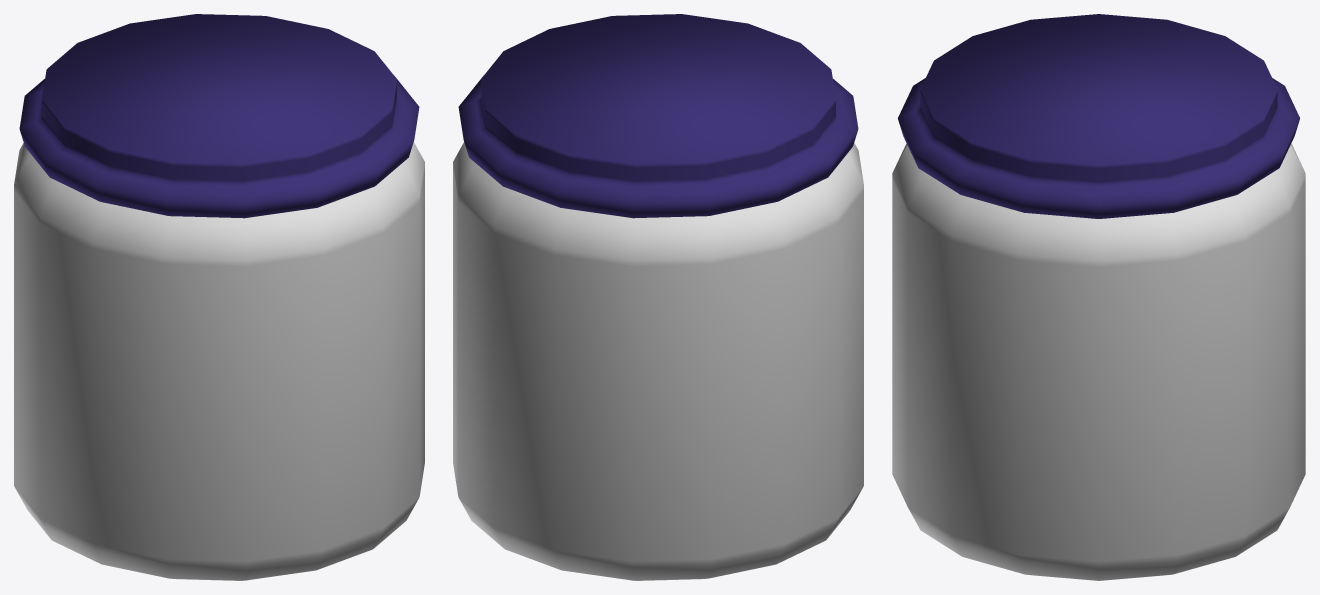
The model's file is SM_Jar.fbx.
The picture shows the model from 3 angles, left to right: view 1: azimuth 30°, elevation 25°; view 2: azimuth 150°, elevation 25°; view 3: azimuth 270°, elevation 25°; orthographic projection.
Visible parts, largest first — view 1: SM_Jar; view 2: SM_Jar; view 3: SM_Jar.
Part boxes in pixels (bbox=[...]): SM_Jar: bbox=[14, 14, 424, 580]; SM_Jar: bbox=[453, 14, 863, 580]; SM_Jar: bbox=[892, 14, 1305, 580].
Size of the model in its own units: 200 by 225 by 200.
